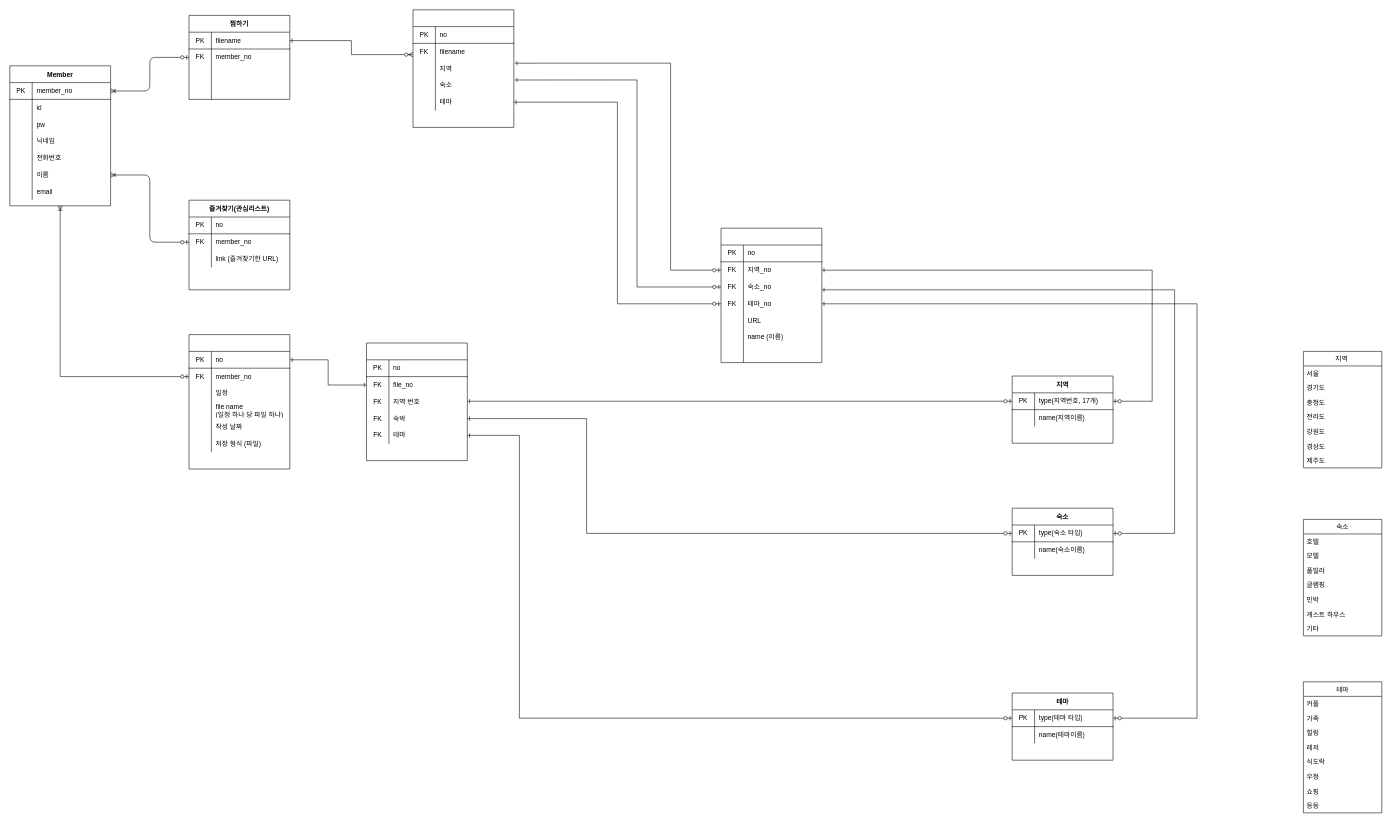
This 1392x824 diagram has some shape labels left out. The shapes that lost their labels are listed below. From the top down, each one's box as (x1, y1, x2, y2) in pixels, then its label:
(412, 9, 514, 127): 찜하기 파일 내용
(720, 228, 822, 363): 장소
(188, 334, 290, 469): 여행 리스트
(366, 342, 467, 461): 체크 리스트
